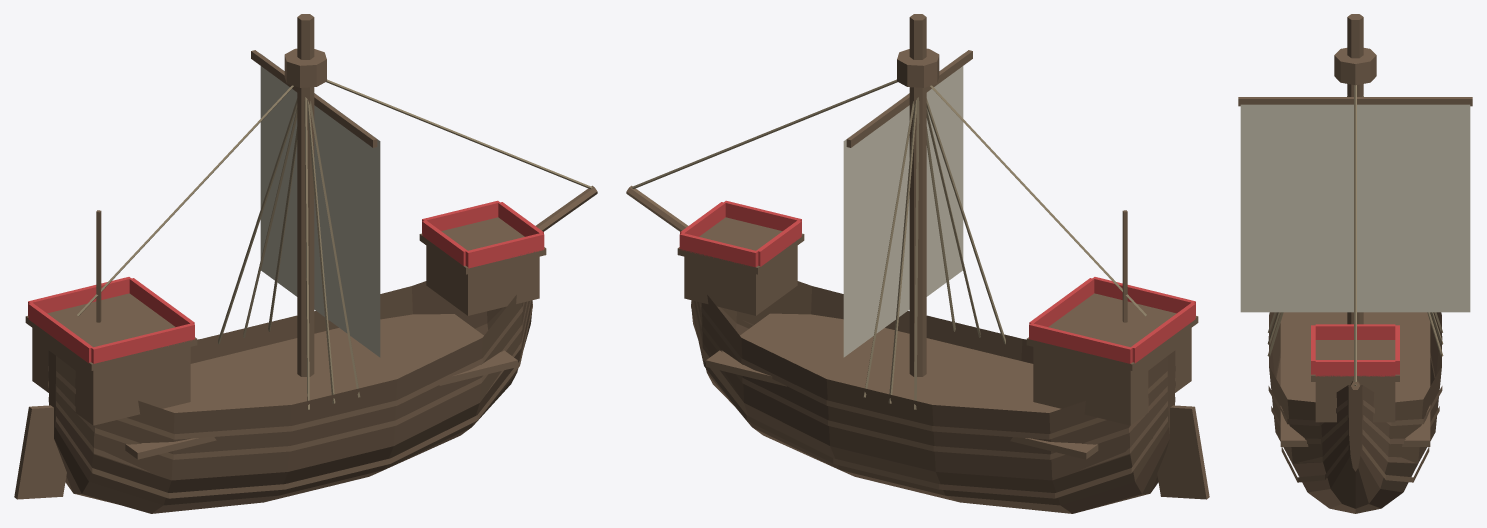
Rendered from nef.glb.
3 views of the same model, side by side, from view 1: azimuth 30°, elevation 25°; view 2: azimuth 150°, elevation 25°; view 3: azimuth 270°, elevation 25° (orthographic). The views are drawn at different scales.
Parts seen in each view (by area): view 1: nef; view 2: nef; view 3: nef.
Boxes of the visible parts, <box> form: nef: <box>14,14,597,513</box>; nef: <box>626,14,1209,513</box>; nef: <box>1238,14,1472,513</box>.
Bounding box in the file's own units: 2.75 × 2.1 × 1.
